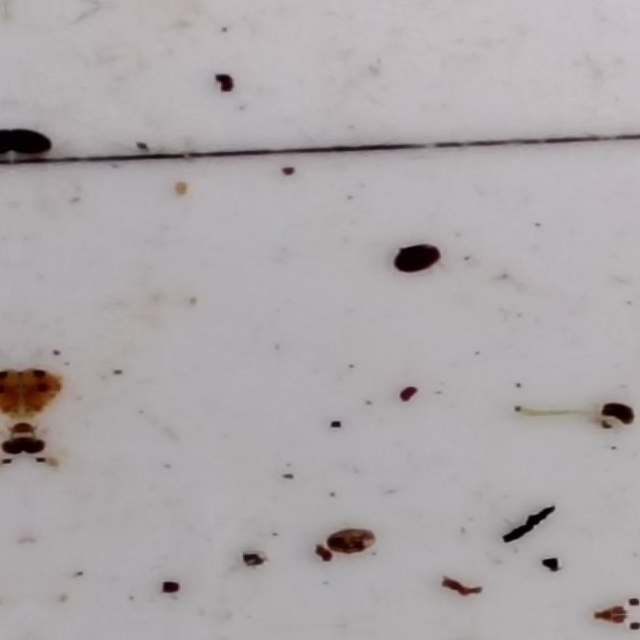varroa: (394, 243, 442, 275), (11, 127, 56, 158)
